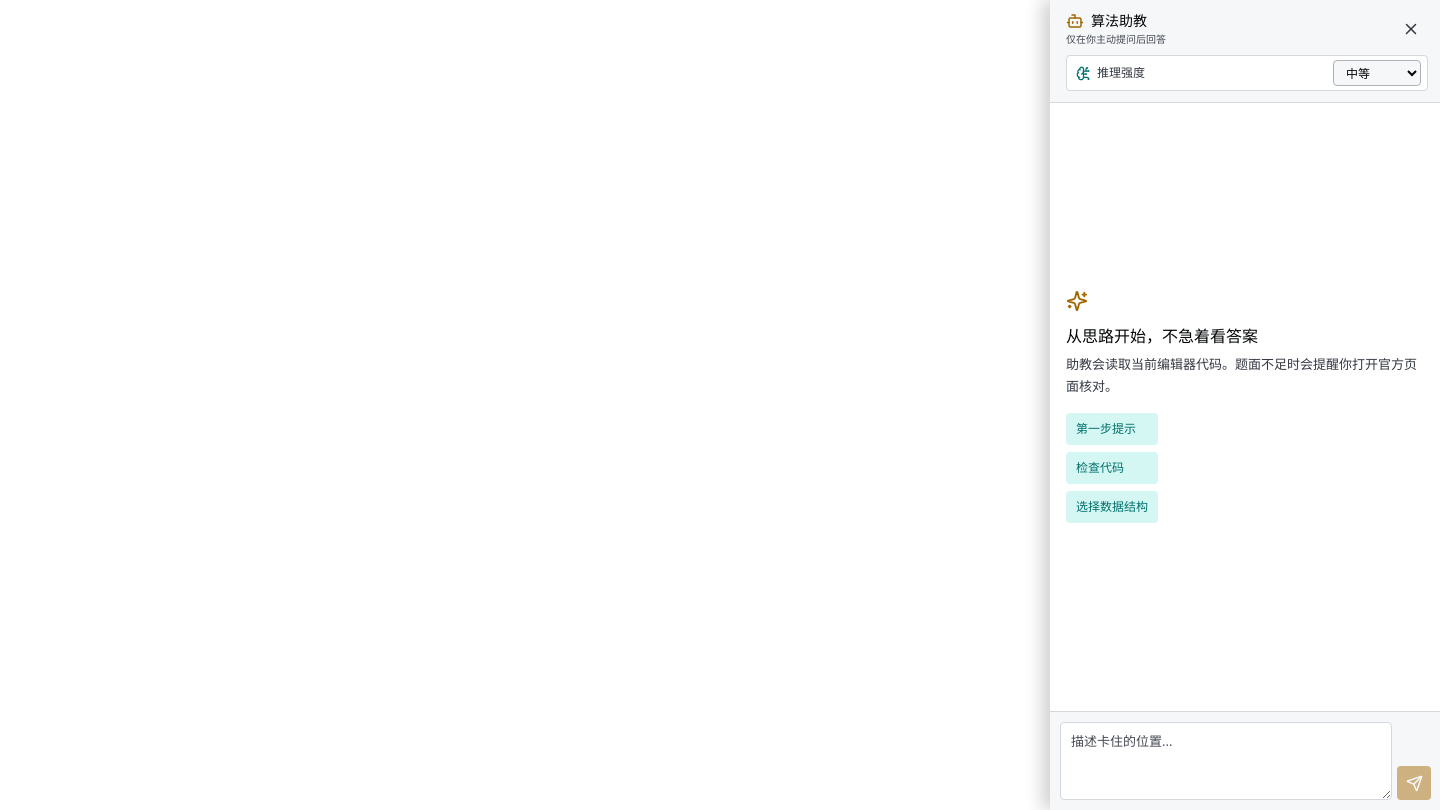
Test case: AIAssistant › shows a useful error when the provider returns an empty non-JSON response
Click the button "第一步提示" at (1112, 429), box [1066, 413, 1158, 445]
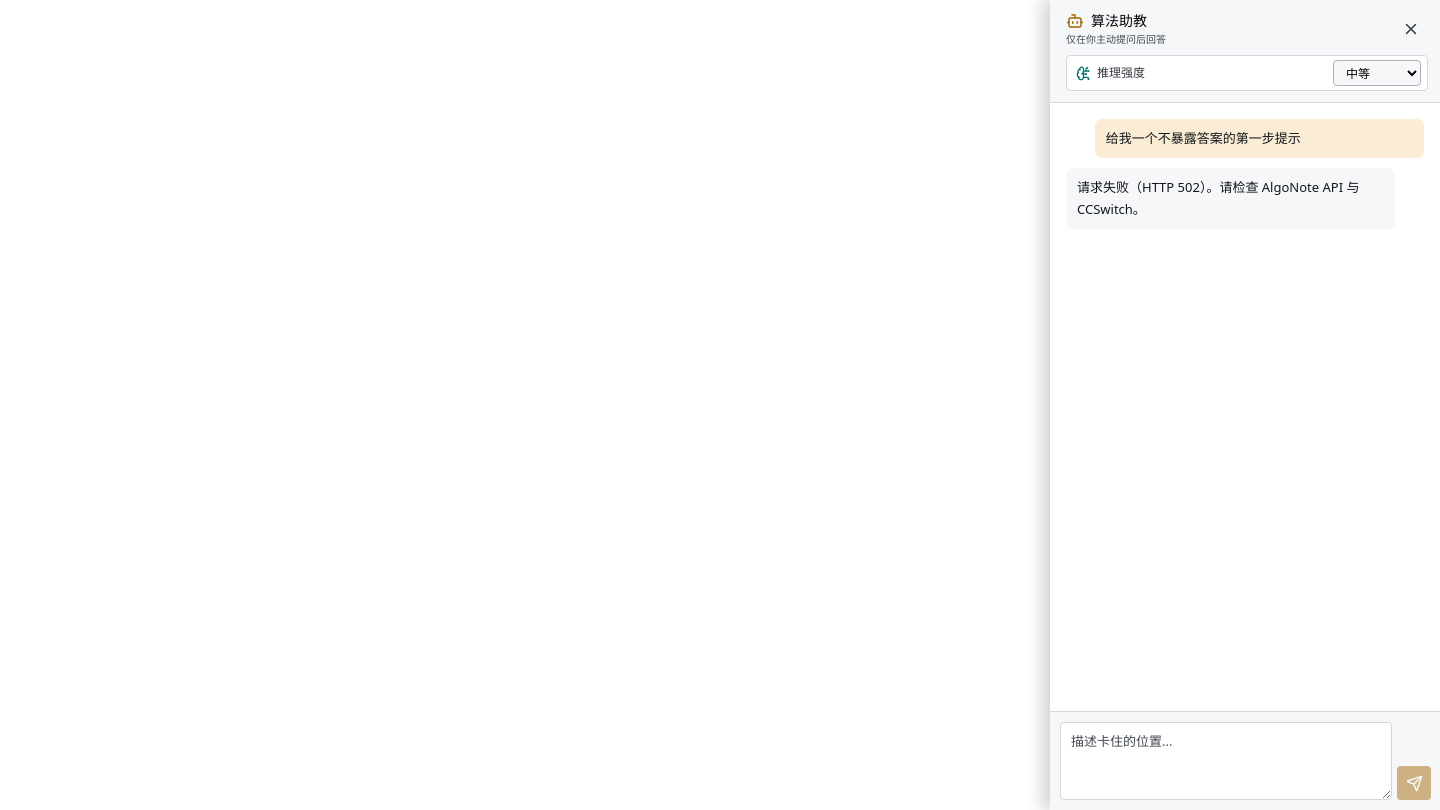
Check: the text "请求失败（HTTP 502）。请检查 AlgoNote API 与 CCSwitch。" is shown, box [1077, 177, 1384, 220]
